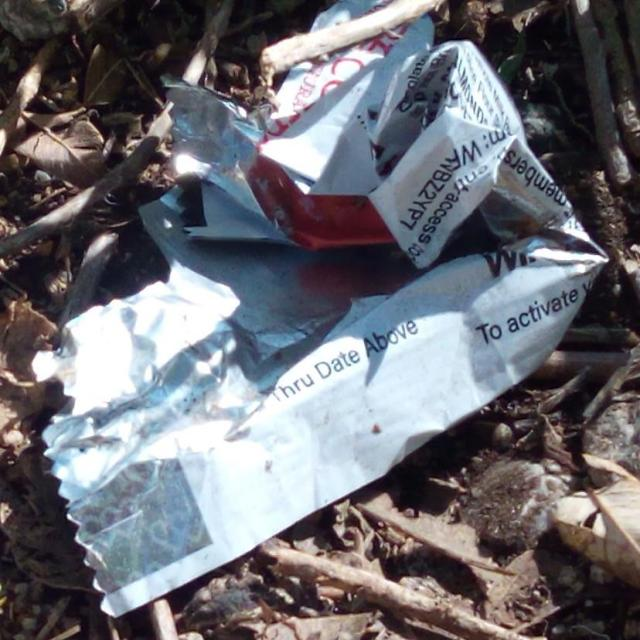litter: (29, 24, 608, 616)
